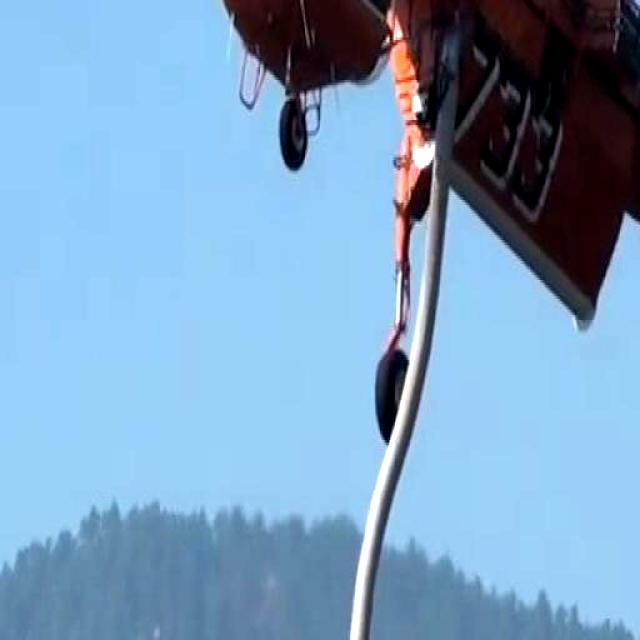drone: (192, 0, 640, 478)
